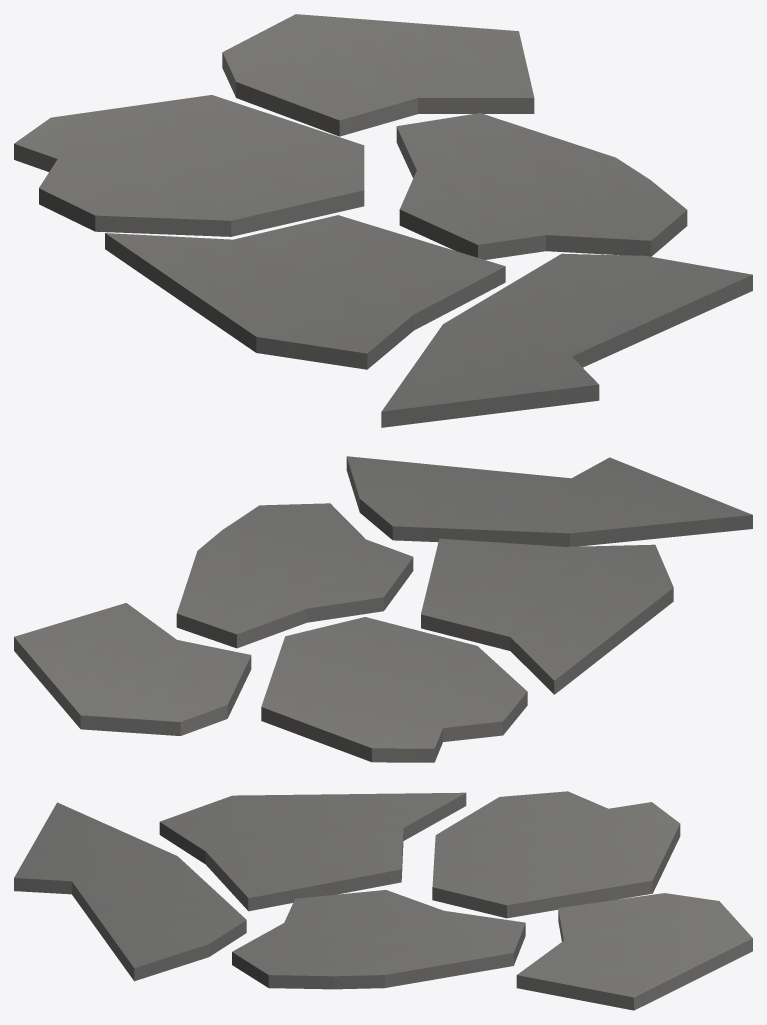
Rendered from Stone_road.fbx.
3 renders of one model, top to bottom at view 1: azimuth 30°, elevation 25°; view 2: azimuth 150°, elevation 25°; view 3: azimuth 270°, elevation 25°, orthographic. The views are drawn at different scales.
Visible parts, largest first — view 1: Road.001; view 2: Road.001; view 3: Road.001.
Part boxes in pixels (x1,y1,x2,y2): Road.001: (14,14,752,427); Road.001: (14,456,752,762); Road.001: (14,791,752,1010).
Size of the model in its own units: 4.05 by 0.12 by 6.14.
